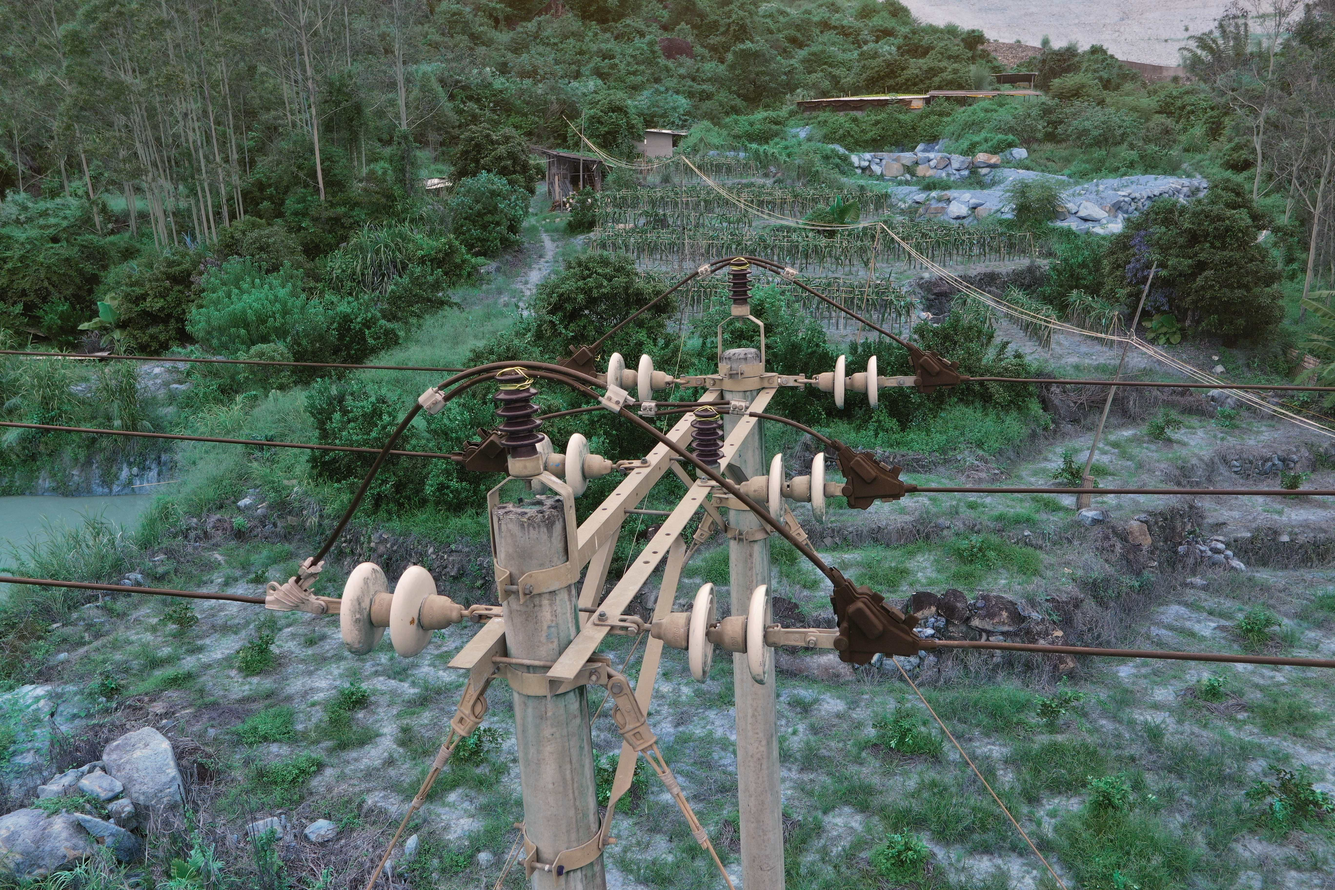severe_soiling_no_discharge_whole: (646, 576, 780, 691), (335, 554, 467, 662), (737, 452, 830, 527), (531, 428, 615, 502), (810, 354, 880, 412), (605, 349, 676, 399)
